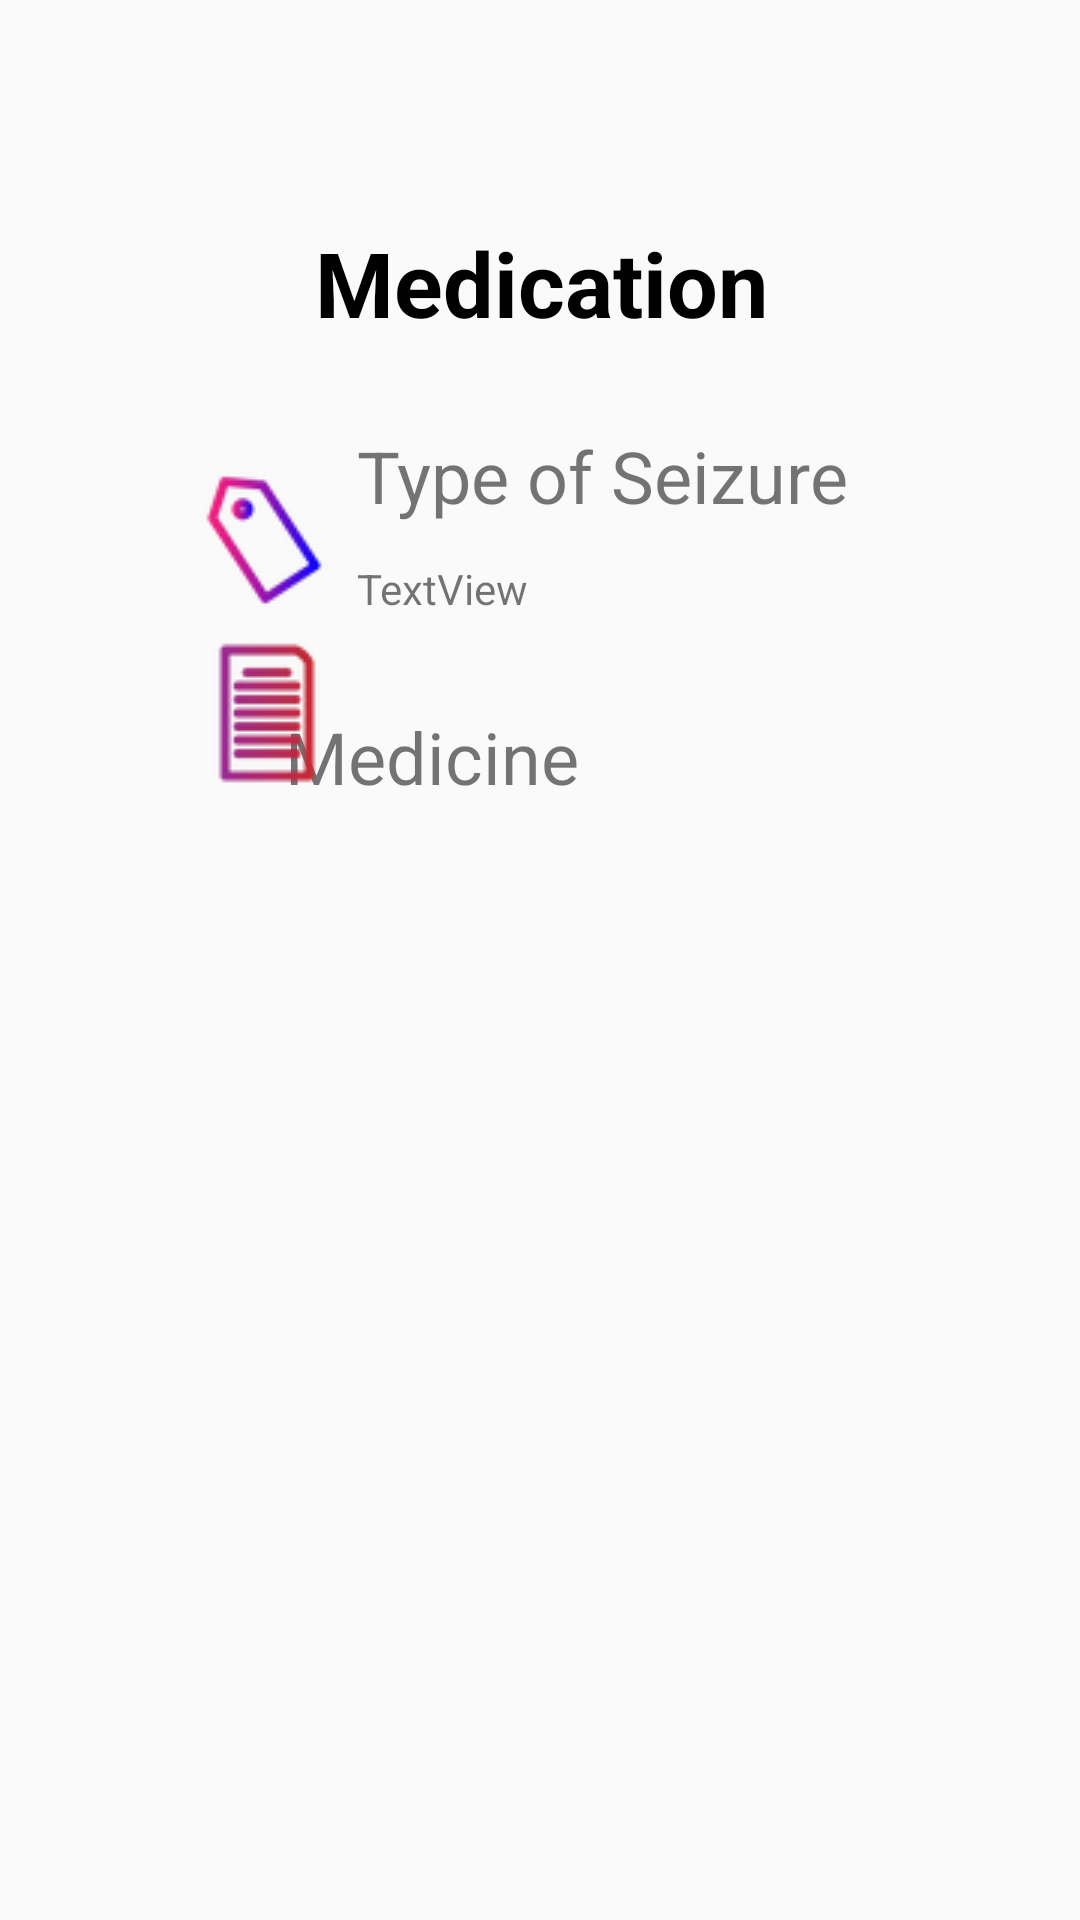

Where to tap for icons on this 1080*1920 app screen, as (x,y):
document: (278,714)
tag: (264,540)
